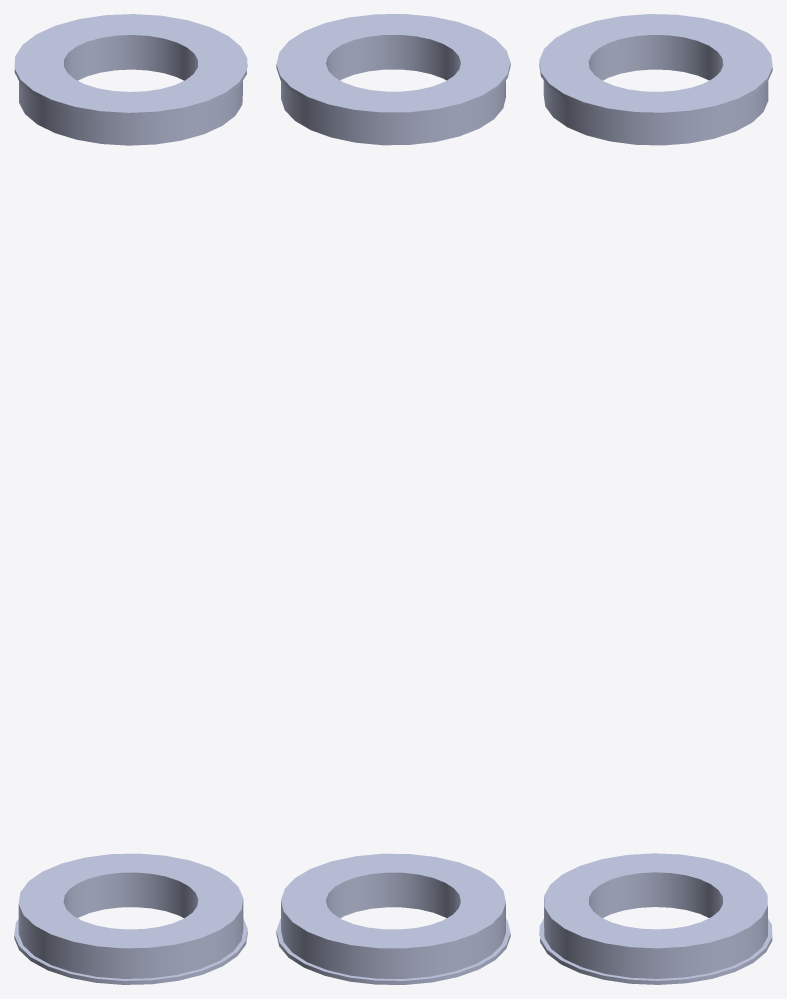
The model's file is bagues.fbx.
3 renders of one model, left to right at view 1: azimuth 30°, elevation 25°; view 2: azimuth 150°, elevation 25°; view 3: azimuth 270°, elevation 25°, orthographic.
Parts seen in each view (by area): view 1: camshaft_bushing.001, camshaft_bushing; view 2: camshaft_bushing, camshaft_bushing.001; view 3: camshaft_bushing, camshaft_bushing.001.
Boxes of the visible parts, left/top/right/bottom form: camshaft_bushing.001: left=14, top=853, right=247, bottom=984; camshaft_bushing: left=14, top=14, right=247, bottom=145; camshaft_bushing: left=276, top=14, right=510, bottom=145; camshaft_bushing.001: left=276, top=853, right=510, bottom=984; camshaft_bushing: left=539, top=14, right=772, bottom=145; camshaft_bushing.001: left=539, top=853, right=772, bottom=984.
Size of the model in its own units: 13.21 by 54.31 by 13.18.
